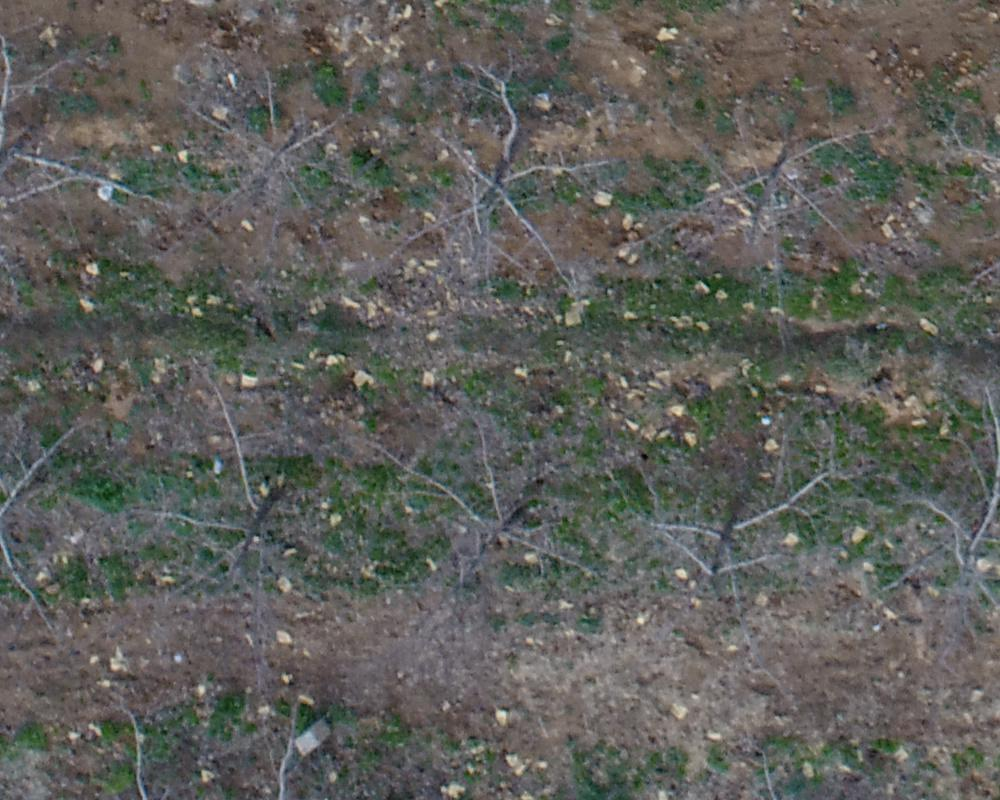apple: (137, 359, 321, 677), (597, 422, 859, 640), (648, 79, 899, 303), (387, 49, 614, 290), (377, 395, 611, 607), (170, 37, 368, 249), (10, 14, 140, 322), (883, 374, 990, 636)
